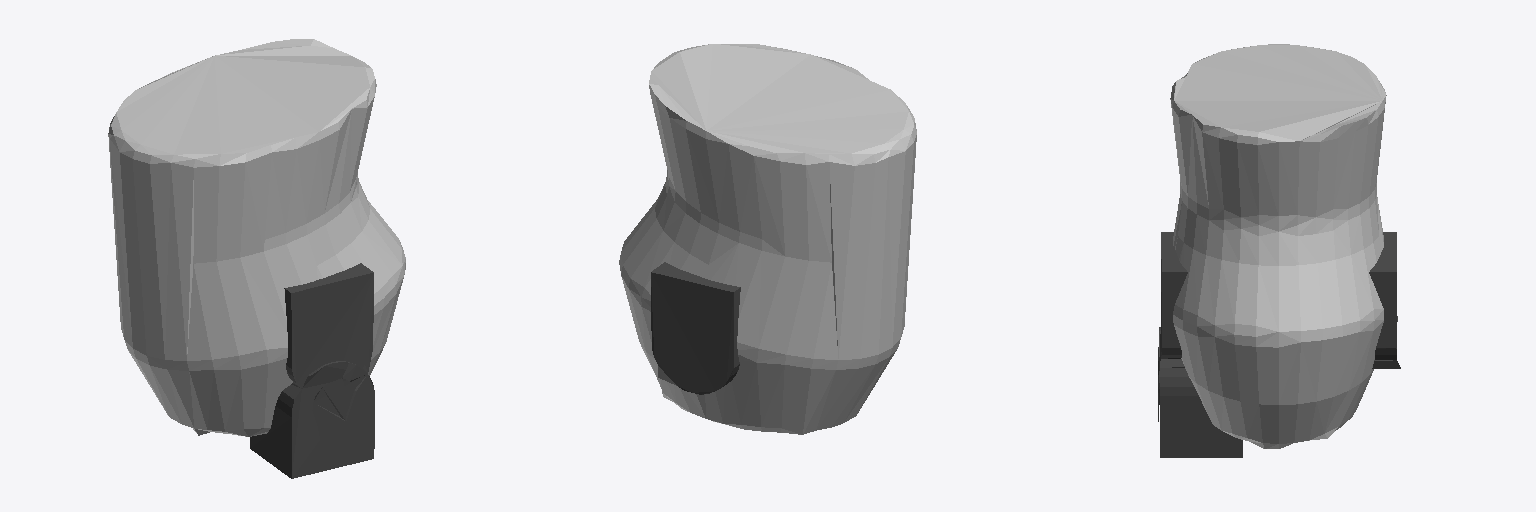
The model's file is Nao6_Left_Leg_Calf.obj.
3 renders of one model, left to right at view 1: azimuth 30°, elevation 25°; view 2: azimuth 150°, elevation 25°; view 3: azimuth 270°, elevation 25°, orthographic.
Visible parts, largest first — view 1: Nao6_Left_Leg_Calf; view 2: Nao6_Left_Leg_Calf; view 3: Nao6_Left_Leg_Calf.
Boxes of the visible parts, x1=… form: Nao6_Left_Leg_Calf: x1=108, y1=39, x2=405, y2=478; Nao6_Left_Leg_Calf: x1=619, y1=44, x2=916, y2=434; Nao6_Left_Leg_Calf: x1=1158, y1=44, x2=1400, y2=457.
Size of the model in its own units: 0.6194 by 0.7475 by 0.4761.